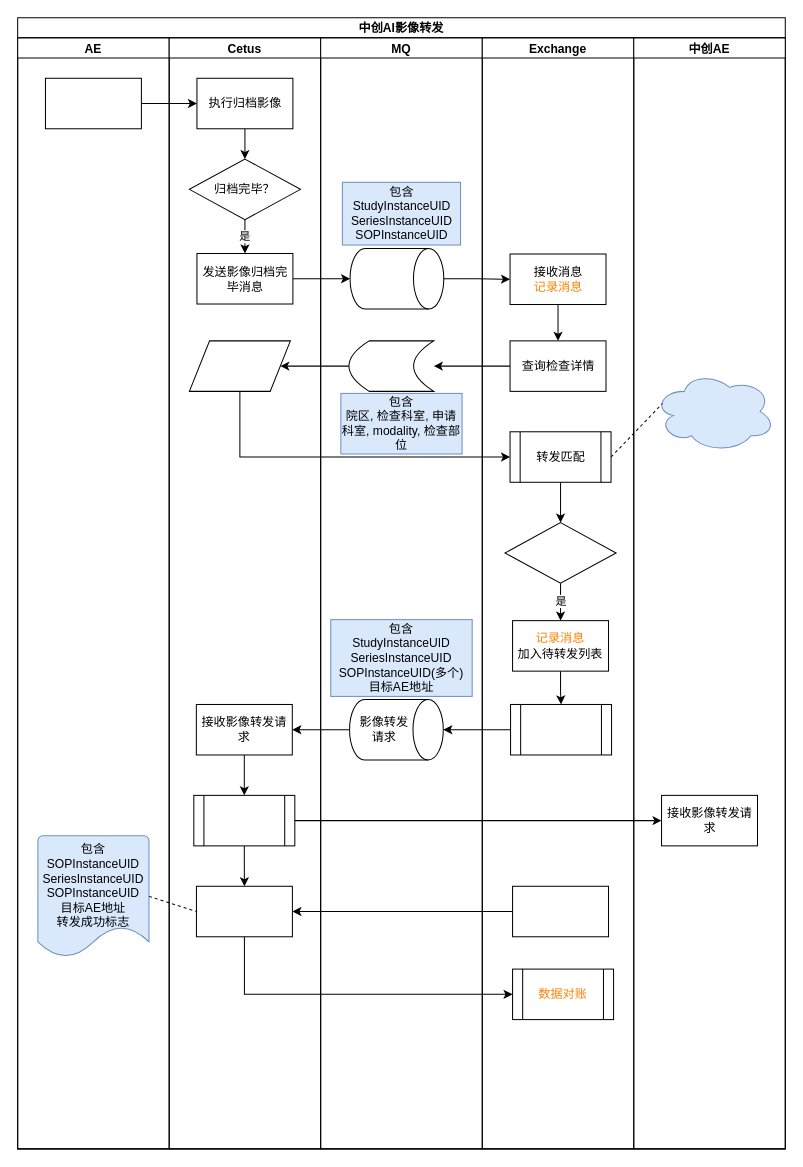
Some shapes in this 803 by 1167 pixel diagram are drawn without their labels. The centre of each missing label's shape, as x and y in pixels:
"定时查询转发日志" goes at pixel 560 911.
"定时汇总待转发列表并 发送转发请求" goes at pixel 561 729.
"影像归档" goes at pixel 92 103.
"影像归档完毕" goes at pixel 396 278.
"影像转发 匹配规则" goes at pixel 714 411.
"执行影像转发" goes at pixel 244 820.
"检查详情" goes at pixel 239 365.
"满足转发条件？" goes at pixel 560 552.
"缓存" goes at pixel 391 365.
"记录转发日志" goes at pixel 243 911.
